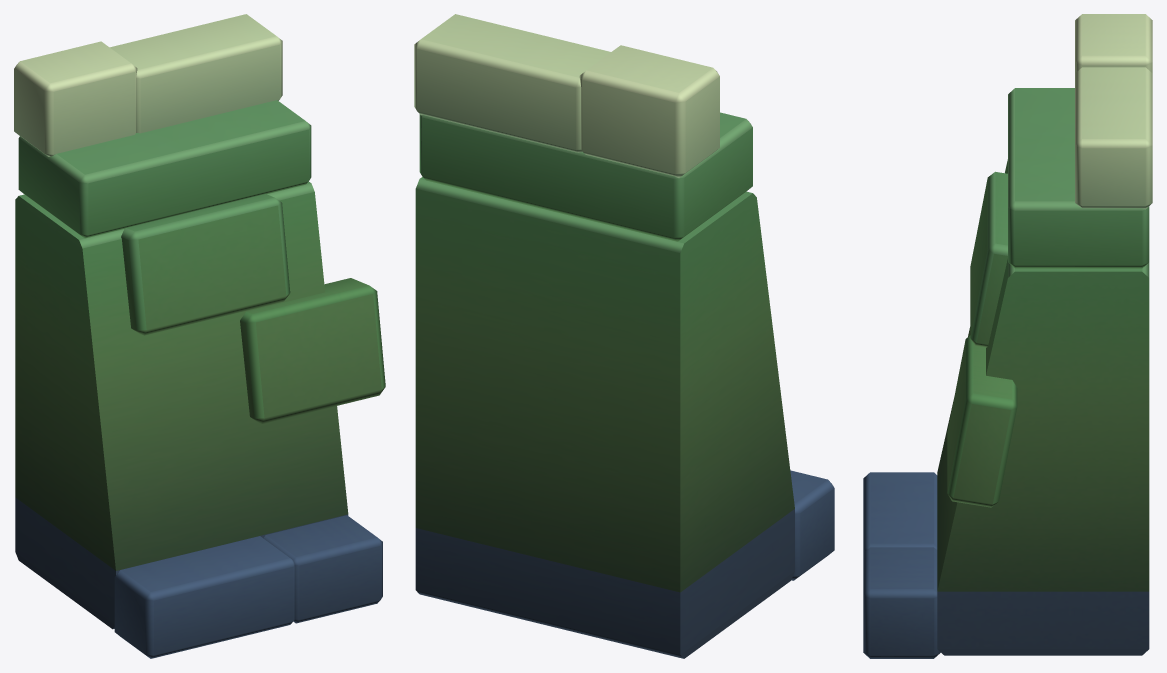
File: wall_straight_02.fbx
The picture shows the model from 3 angles, left to right: view 1: azimuth 30°, elevation 25°; view 2: azimuth 150°, elevation 25°; view 3: azimuth 270°, elevation 25°; orthographic projection. The views are drawn at different scales.
Visible parts, largest first — view 1: wall_straight_02; view 2: wall_straight_02; view 3: wall_straight_02.
Boxes of the visible parts, bbox=[...] form: wall_straight_02: bbox=[14, 14, 385, 658]; wall_straight_02: bbox=[414, 14, 834, 658]; wall_straight_02: bbox=[863, 14, 1152, 658].
Size of the model in its own units: 241 by 413 by 205.
